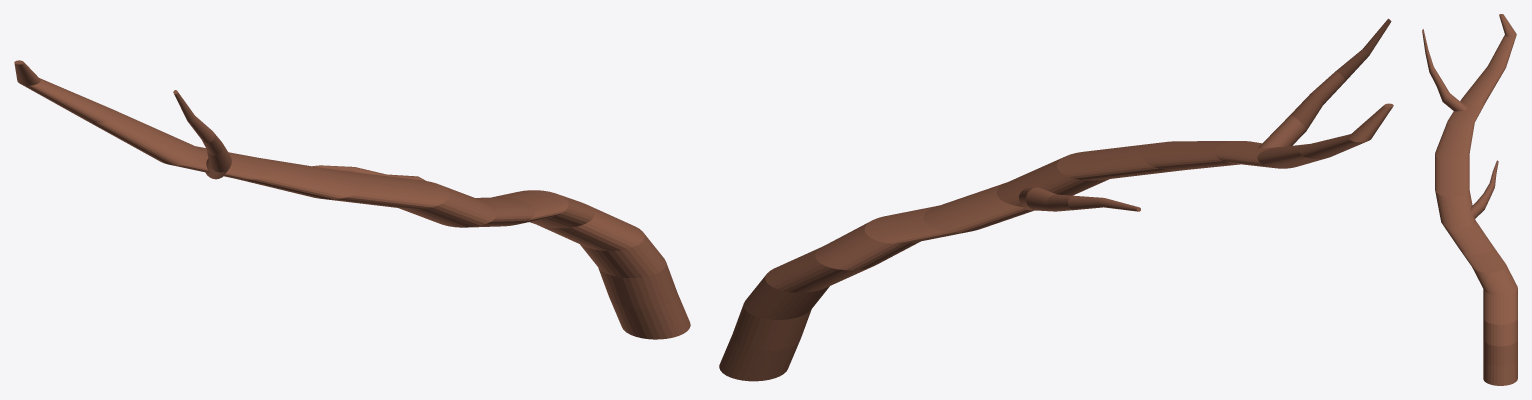
Rendered from tree branch.fbx.
3 views of the same model, side by side, from view 1: azimuth 30°, elevation 25°; view 2: azimuth 150°, elevation 25°; view 3: azimuth 270°, elevation 25° (orthographic). The views are drawn at different scales.
Parts seen in each view (by area): view 1: Cylinder, Cylinder.002; view 2: Cylinder, Cylinder.002, Cylinder.001; view 3: Cylinder, Cylinder.002, Cylinder.001.
Boxes of the visible parts, bbox=[...] form: Cylinder: bbox=[14, 60, 690, 339]; Cylinder.002: bbox=[173, 90, 231, 179]; Cylinder: bbox=[719, 103, 1393, 381]; Cylinder.002: bbox=[1258, 18, 1391, 148]; Cylinder.001: bbox=[1019, 187, 1140, 211]; Cylinder: bbox=[1435, 14, 1517, 385]; Cylinder.002: bbox=[1422, 29, 1466, 111]; Cylinder.001: bbox=[1470, 160, 1498, 218].
Size of the model in its own units: 671 by 409 by 166.
